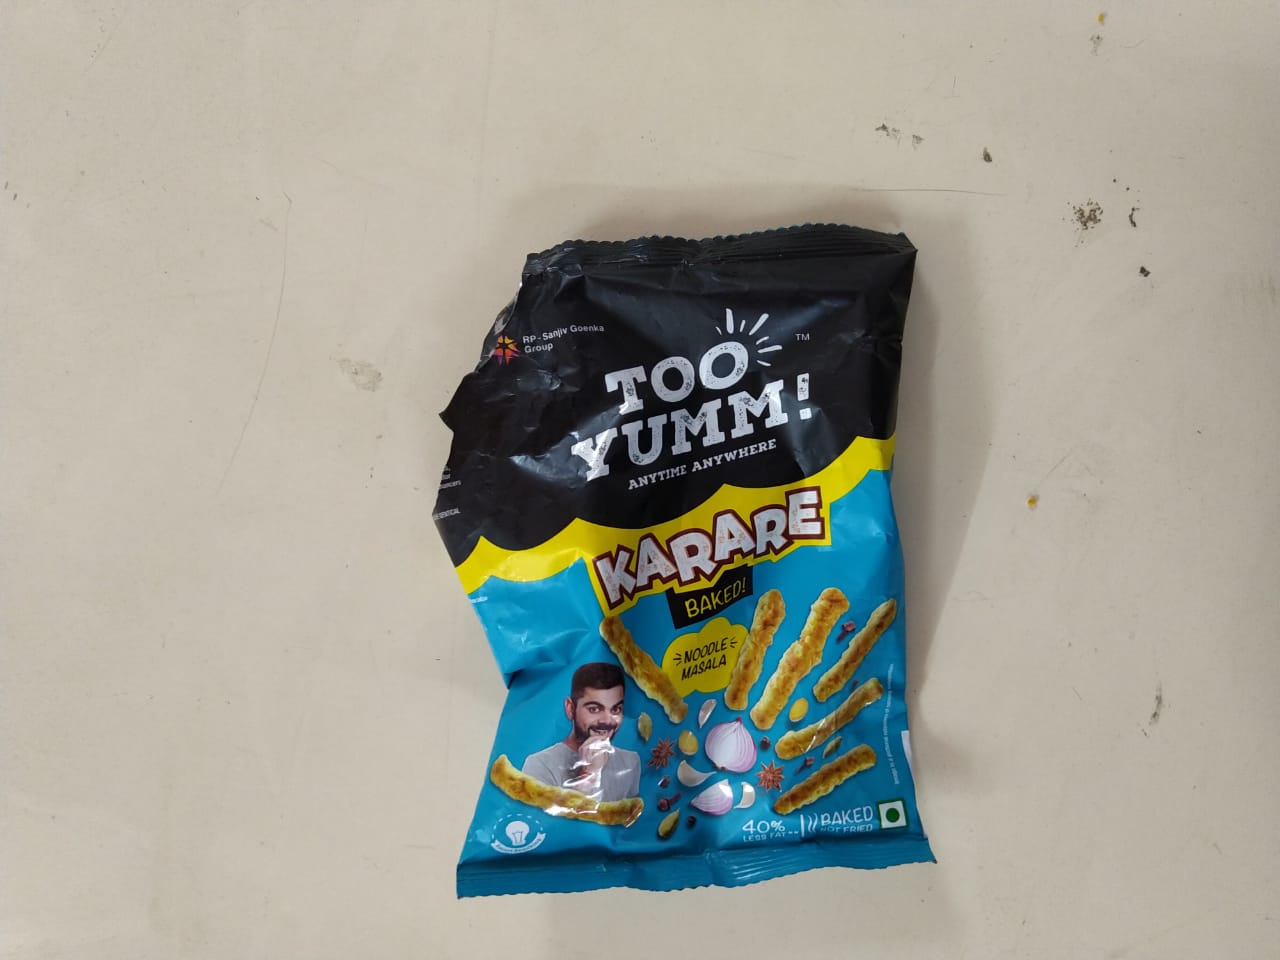plastic: (433, 191, 951, 901)
tooyumm: (561, 305, 837, 503), (567, 319, 801, 481)
wrapper: (435, 229, 947, 887)
